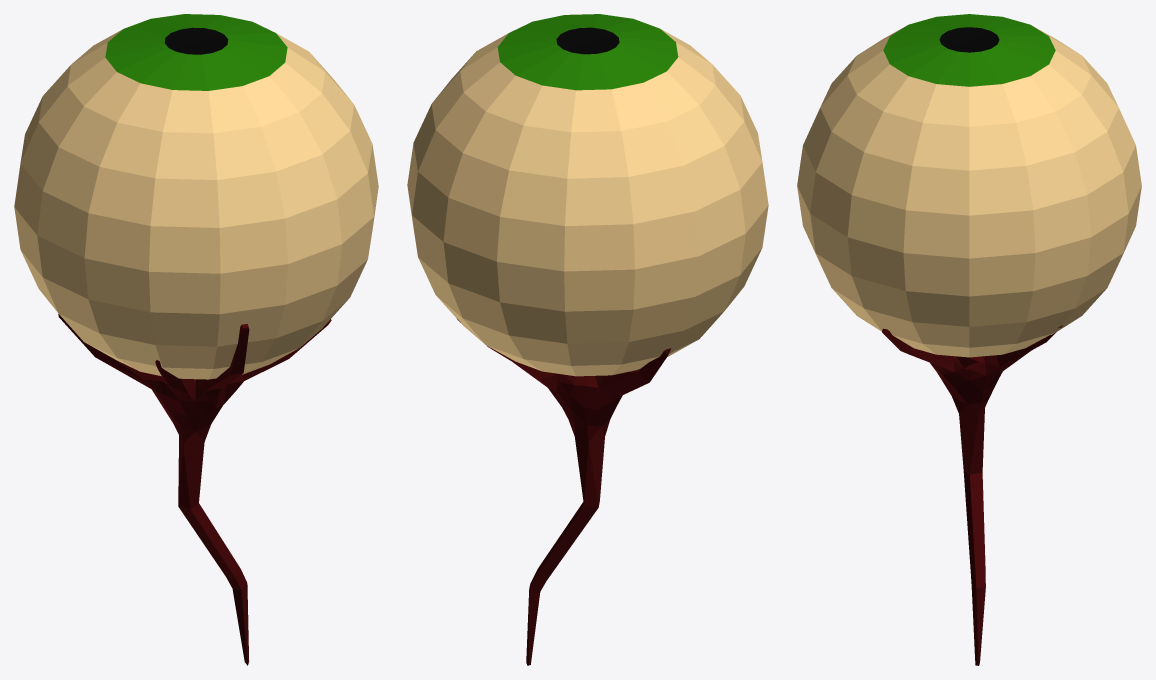
Rendered from oeil.fbx.
3 views of the same model, side by side, from view 1: azimuth 30°, elevation 25°; view 2: azimuth 150°, elevation 25°; view 3: azimuth 270°, elevation 25° (orthographic). The views are drawn at different scales.
Visible parts, largest first — view 1: Sphere; view 2: Sphere; view 3: Sphere.
Part boxes in pixels (bbox=[...]): Sphere: bbox=[14, 14, 378, 665]; Sphere: bbox=[407, 14, 768, 665]; Sphere: bbox=[797, 14, 1141, 665].
Bounding box in the file's own units: 7.89 × 15.17 × 7.89.
